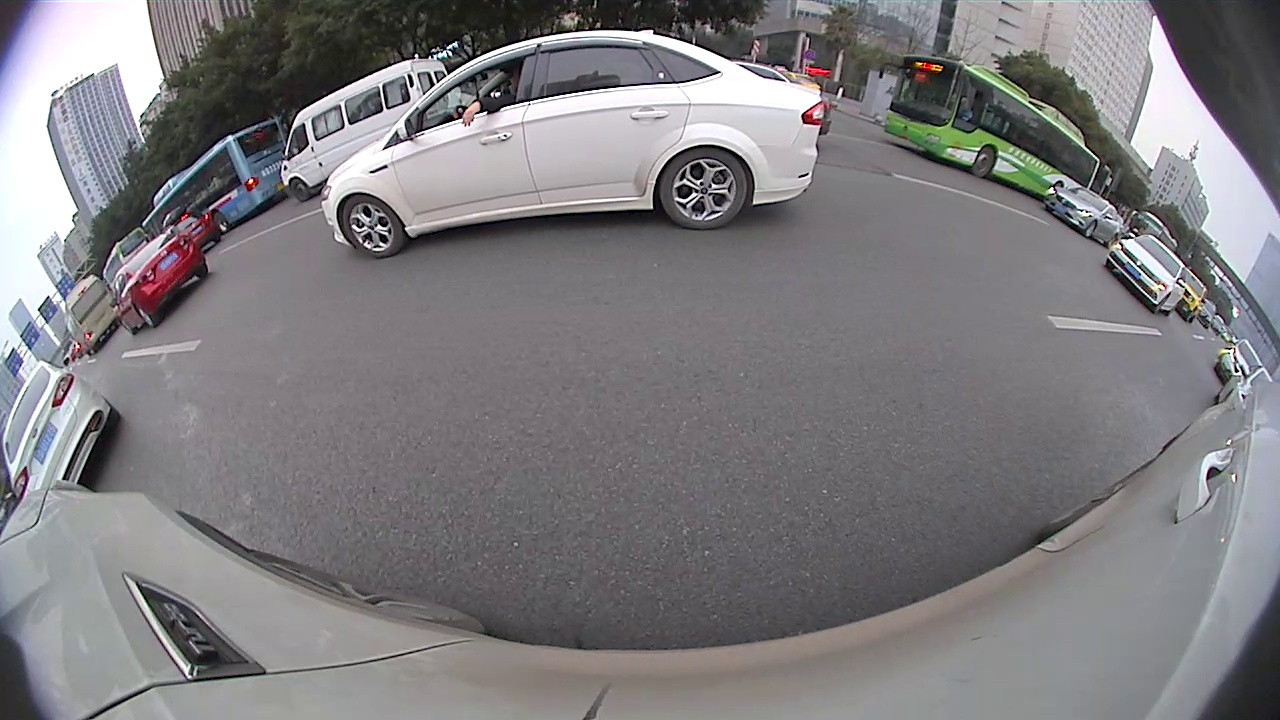bus: (884, 55, 1101, 203), (145, 122, 287, 245), (60, 275, 119, 353)
car: (325, 33, 829, 257), (280, 60, 453, 202), (4, 358, 121, 520), (120, 235, 209, 335), (1105, 235, 1185, 314), (1041, 190, 1121, 247), (171, 211, 222, 250)
front: (337, 190, 408, 262), (973, 142, 995, 178), (288, 176, 312, 201), (1084, 219, 1097, 239)
rear: (659, 147, 749, 229), (209, 209, 233, 235), (134, 306, 157, 328)
